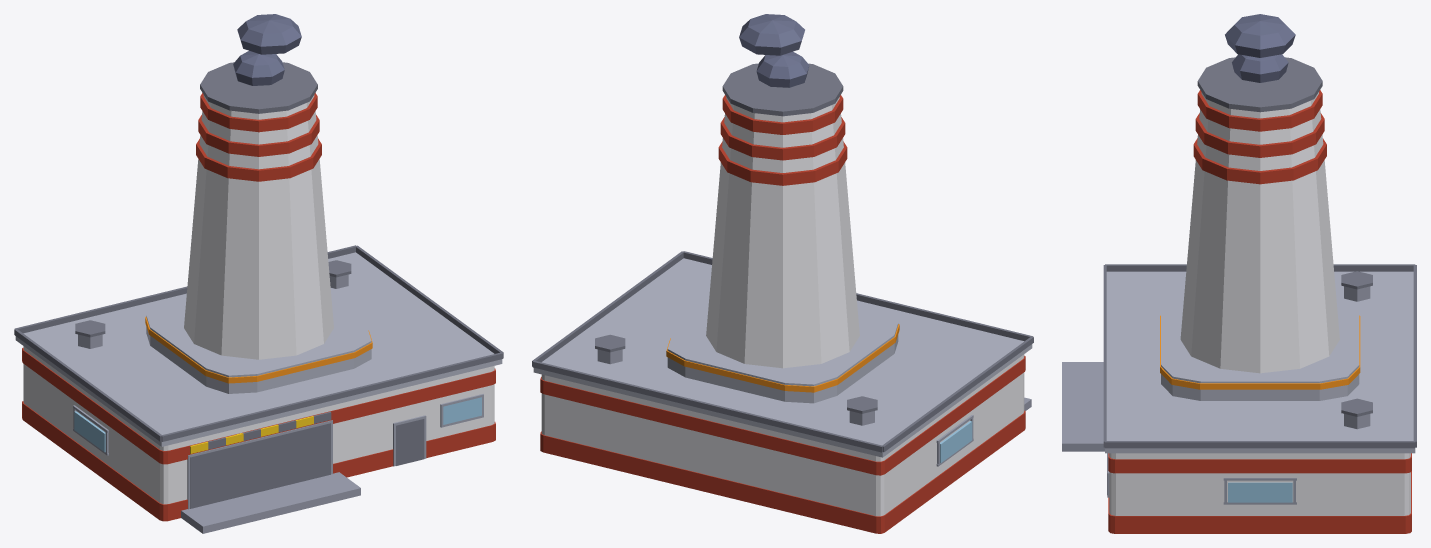
The model's file is incinerator-2x2-t3.glb.
The picture shows the model from 3 angles, left to right: view 1: azimuth 30°, elevation 25°; view 2: azimuth 150°, elevation 25°; view 3: azimuth 270°, elevation 25°; orthographic projection. The views are drawn at different scales.
Parts seen in each view (by area): view 1: incinerator-2x2-t3; view 2: incinerator-2x2-t3; view 3: incinerator-2x2-t3.
Boxes of the visible parts, x1,y1,x2,y2 form: incinerator-2x2-t3: [14, 14, 503, 533]; incinerator-2x2-t3: [532, 14, 1033, 533]; incinerator-2x2-t3: [1062, 14, 1416, 533].
Size of the model in its own units: 1.96 by 2.21 by 1.65.
1 material, 1 textured.
